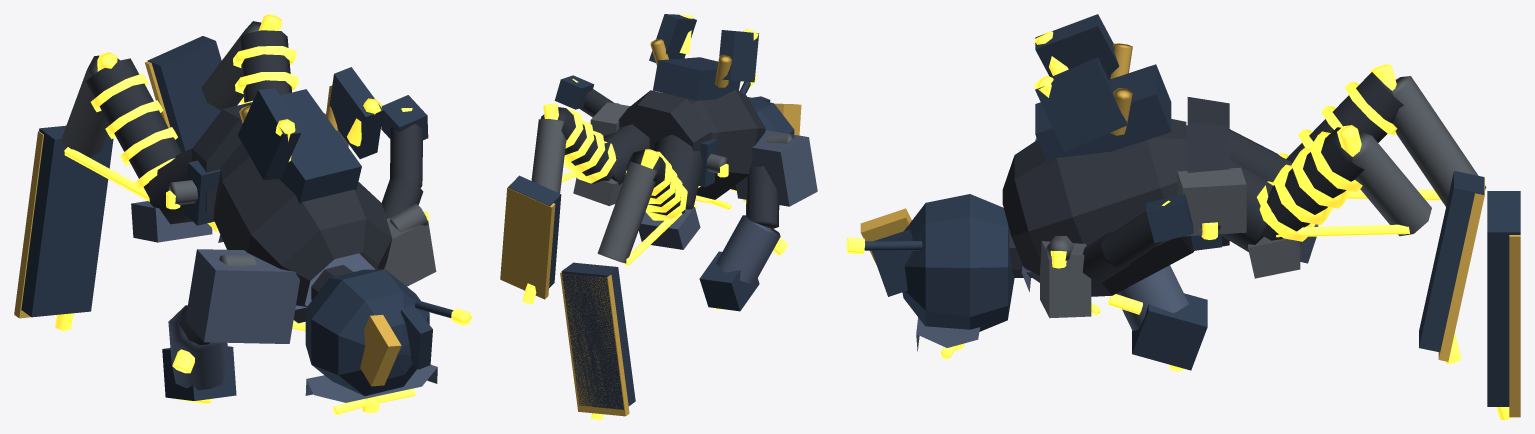
Rendered from bulwark_no_shield.glb.
3 renders of one model, left to right at view 1: azimuth 30°, elevation 25°; view 2: azimuth 150°, elevation 25°; view 3: azimuth 270°, elevation 25°, orthographic. The views are drawn at different scales.
Parts seen in each view (by area): view 1: Stripped_Overdrive_Torso, Overdrive_Lead_Toe, Overdrive_Hunter_Helmet, Strike_Shoulder_Reinforced, Exposed_Back_Core, Overdrive_Trail_Toe, Lead_Predatory_Calf, Left_Vent_Fin, Right_Vent_Fin, Balance_Shoulder, Strike_Forearm, Lead_Reverse_Hock (+25 smaller); view 2: Overdrive_Lead_Toe, Overdrive_Trail_Toe_Rail, Stripped_Overdrive_Torso, Overdrive_Lead_Toe_Rail, Strike_Shoulder_Reinforced, Overdrive_Hip_Core, Lead_Reverse_Hock, Exposed_Back_Core, Strike_Forearm, Trail_Reverse_Hock, Strike_Gauntlet, Lead_Coiled_Thigh (+27 smaller); view 3: Stripped_Overdrive_Torso, Overdrive_Hunter_Helmet, Overdrive_Lead_Toe, Right_Vent_Fin, Exposed_Back_Core, Overdrive_Trail_Toe, Lead_Reverse_Hock, Trail_Reverse_Hock, Strike_Gauntlet, Counterbalance_Module, Trail_Predatory_Calf, Overdrive_Hip_Core (+21 smaller).
Boxes of the visible parts, <box> form: Stripped_Overdrive_Torso: <box>213,143,392,323</box>; Overdrive_Lead_Toe: <box>21,125,113,317</box>; Overdrive_Hunter_Helmet: <box>305,269,429,395</box>; Strike_Shoulder_Reinforced: <box>185,249,299,343</box>; Exposed_Back_Core: <box>249,89,361,203</box>; Overdrive_Trail_Toe: <box>147,36,221,152</box>; Lead_Predatory_Calf: <box>86,58,181,197</box>; Left_Vent_Fin: <box>238,88,301,180</box>; Right_Vent_Fin: <box>329,67,383,158</box>; Balance_Shoulder: <box>359,218,436,286</box>; Strike_Forearm: <box>168,305,228,390</box>; Lead_Reverse_Hock: <box>61,55,119,157</box>; Overdrive_Lead_Toe: <box>561,262,635,409</box>; Overdrive_Trail_Toe_Rail: <box>500,184,555,299</box>; Stripped_Overdrive_Torso: <box>663,90,765,199</box>; Overdrive_Lead_Toe_Rail: <box>560,272,629,416</box>; Strike_Shoulder_Reinforced: <box>736,130,817,206</box>; Overdrive_Hip_Core: <box>618,90,711,151</box>; Lead_Reverse_Hock: <box>597,161,657,263</box>; Exposed_Back_Core: <box>653,57,740,100</box>; Strike_Forearm: <box>716,215,780,285</box>; Trail_Reverse_Hock: <box>531,119,566,193</box>; Strike_Gauntlet: <box>699,251,759,311</box>; Lead_Coiled_Thigh: <box>653,135,703,209</box>; Stripped_Overdrive_Torso: <box>1002,119,1193,296</box>; Overdrive_Hunter_Helmet: <box>902,194,1014,331</box>; Overdrive_Lead_Toe: <box>1487,191,1520,406</box>; Right_Vent_Fin: <box>1035,57,1126,152</box>; Exposed_Back_Core: <box>1035,64,1171,164</box>; Overdrive_Trail_Toe: <box>1419,171,1484,352</box>; Lead_Reverse_Hock: <box>1392,76,1486,206</box>; Trail_Reverse_Hock: <box>1352,132,1431,236</box>; Strike_Gauntlet: <box>1132,293,1207,370</box>; Counterbalance_Module: <box>1177,167,1246,236</box>; Trail_Predatory_Calf: <box>1262,127,1364,240</box>; Overdrive_Hip_Core: <box>1187,97,1229,250</box>.
Size of the model in its own units: 1.57 by 2.02 by 3.04.
